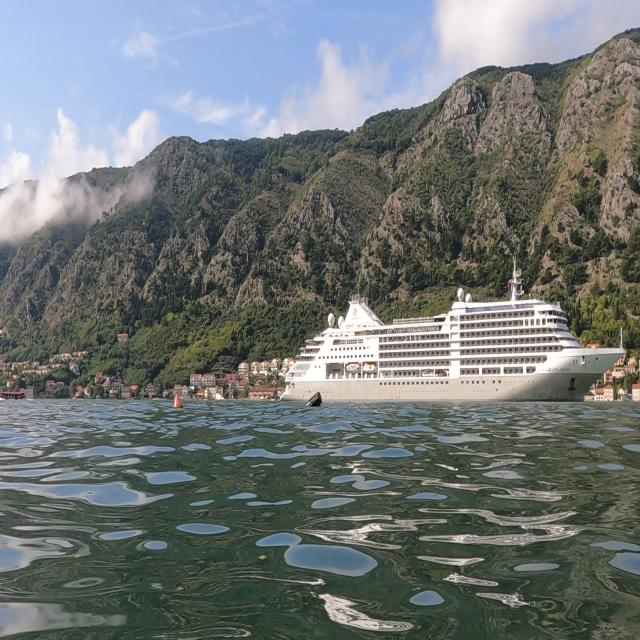boat: (277, 253, 626, 407)
buoy: (301, 381, 327, 415), (166, 386, 188, 414)
